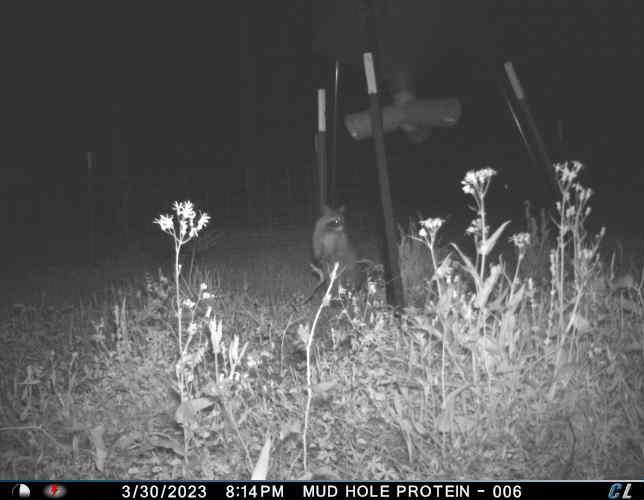Raccoon: (311, 199, 366, 294)
